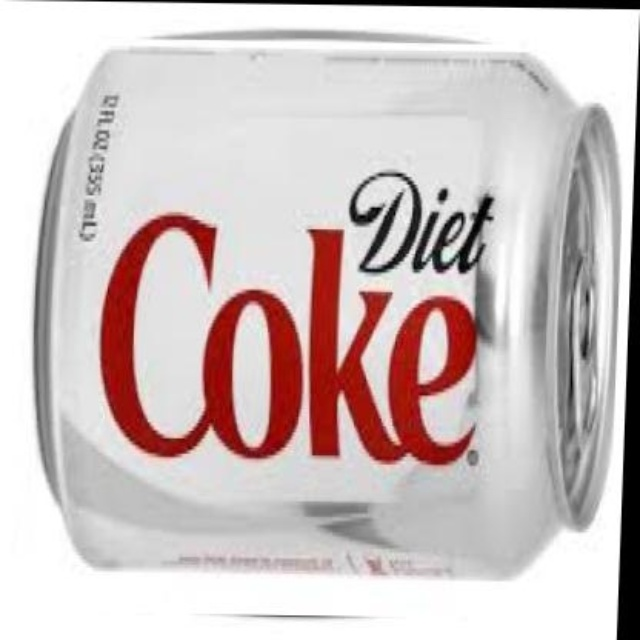trash: (35, 32, 618, 577)
